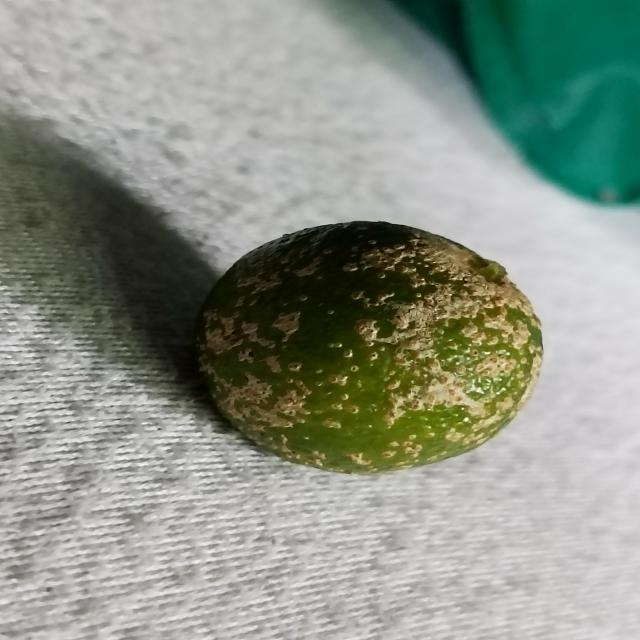scab: (179, 200, 551, 474)
